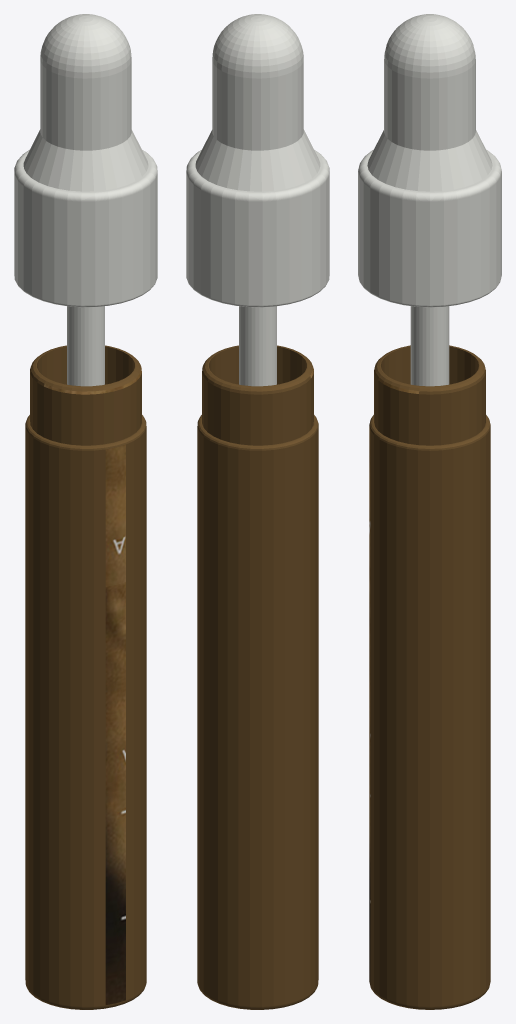
Rendered from EYE DROPPER.glb.
The picture shows the model from 3 angles, left to right: view 1: azimuth 30°, elevation 25°; view 2: azimuth 150°, elevation 25°; view 3: azimuth 270°, elevation 25°; orthographic projection.
Parts seen in each view (by area): view 1: Circle, Circle.001; view 2: Circle, Circle.001; view 3: Circle, Circle.001.
Part boxes in pixels (x1,y1,x2,y2): Circle: [25, 345, 146, 1009]; Circle.001: [14, 14, 157, 386]; Circle: [197, 345, 318, 1009]; Circle.001: [186, 14, 329, 386]; Circle: [369, 345, 490, 1009]; Circle.001: [358, 14, 501, 386].
Bounding box in the file's own units: 1.16 × 8.58 × 1.16.
Materials: 2 (2 with a texture image).
